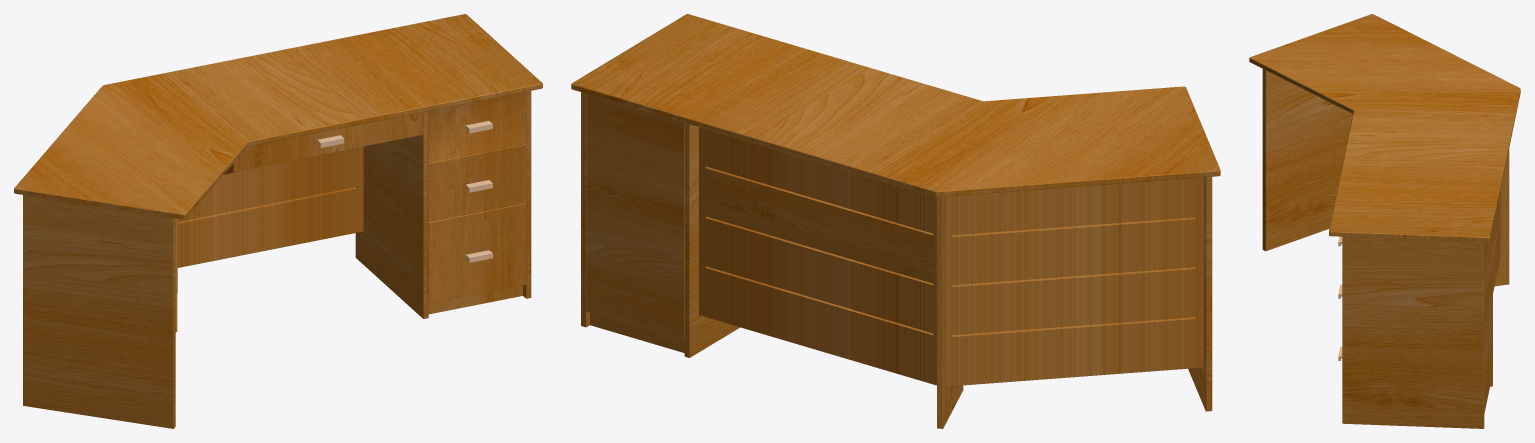
3 renders of one model, left to right at view 1: azimuth 30°, elevation 25°; view 2: azimuth 150°, elevation 25°; view 3: azimuth 270°, elevation 25°, orthographic. The views are drawn at different scales.
Parts seen in each view (by area): view 1: Office Table; view 2: Office Table; view 3: Office Table.
Part boxes in pixels (bbox=[...]): Office Table: bbox=[14, 14, 542, 428]; Office Table: bbox=[571, 14, 1220, 428]; Office Table: bbox=[1249, 14, 1520, 428].
Size of the model in its own units: 19658 by 7938 by 10065.
Materials: 2 (1 with a texture image).
